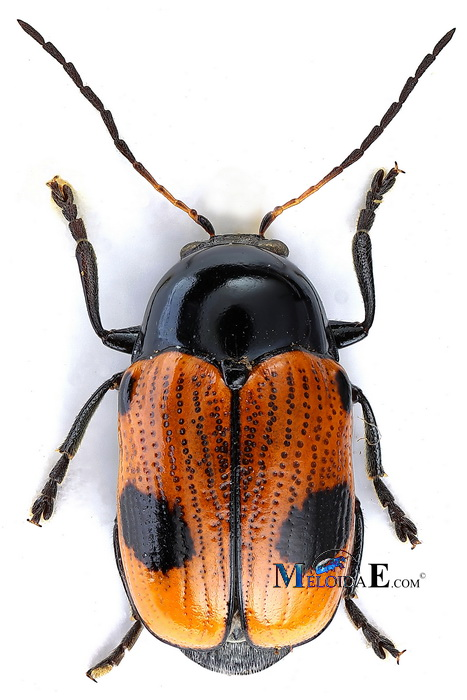Cryptocephalus_bipunctatus: (6, 12, 457, 669)
